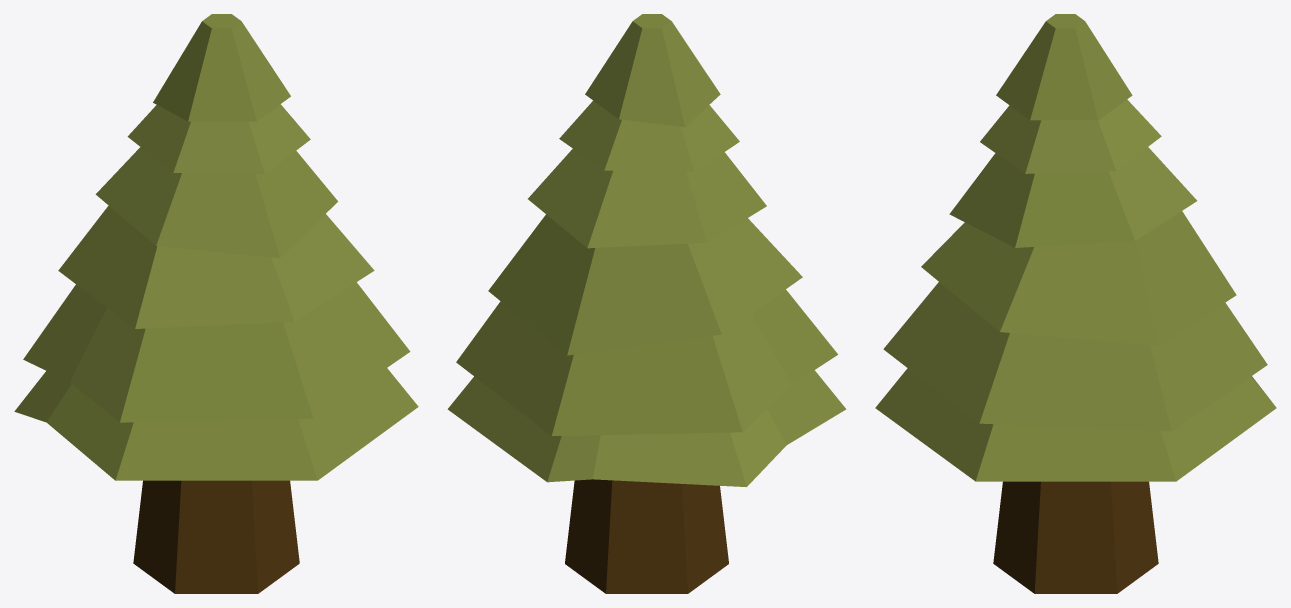
File: tree2.fbx
3 views of the same model, side by side, from view 1: azimuth 30°, elevation 25°; view 2: azimuth 150°, elevation 25°; view 3: azimuth 270°, elevation 25° (orthographic).
Parts seen in each view (by area): view 1: Cylinder.010; view 2: Cylinder.010; view 3: Cylinder.010.
Part boxes in pixels (box(x1,y1,x2,y2)): Cylinder.010: box(14, 14, 418, 593); Cylinder.010: box(447, 14, 846, 593); Cylinder.010: box(875, 14, 1276, 593).
Size of the model in its own units: 471 by 800 by 536.
5 materials, 5 textured.
